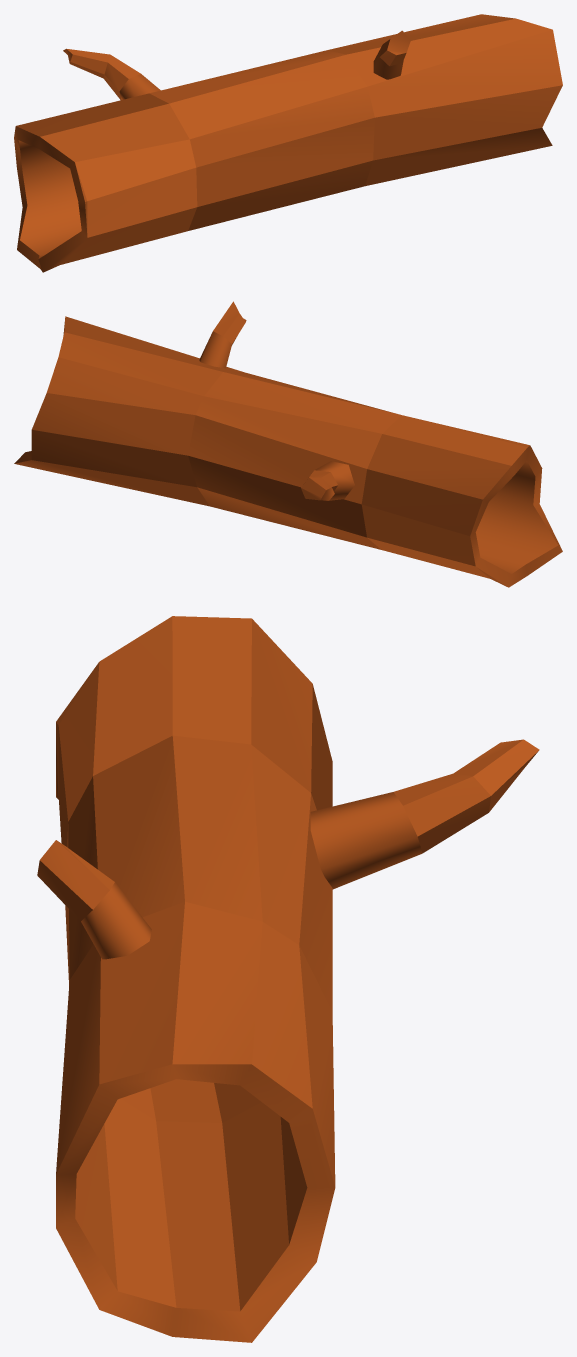
The model's file is FallenTree.FBX.
The picture shows the model from 3 angles, top to bottom: view 1: azimuth 30°, elevation 25°; view 2: azimuth 150°, elevation 25°; view 3: azimuth 270°, elevation 25°; orthographic projection. The views are drawn at different scales.
Visible parts, largest first — view 1: Tube001; view 2: Tube001; view 3: Tube001.
Boxes of the visible parts, bbox=[...] form: Tube001: bbox=[14, 14, 562, 272]; Tube001: bbox=[14, 301, 562, 587]; Tube001: bbox=[37, 616, 539, 1342].
Bounding box in the file's own units: 5758 × 1887 × 2456.
